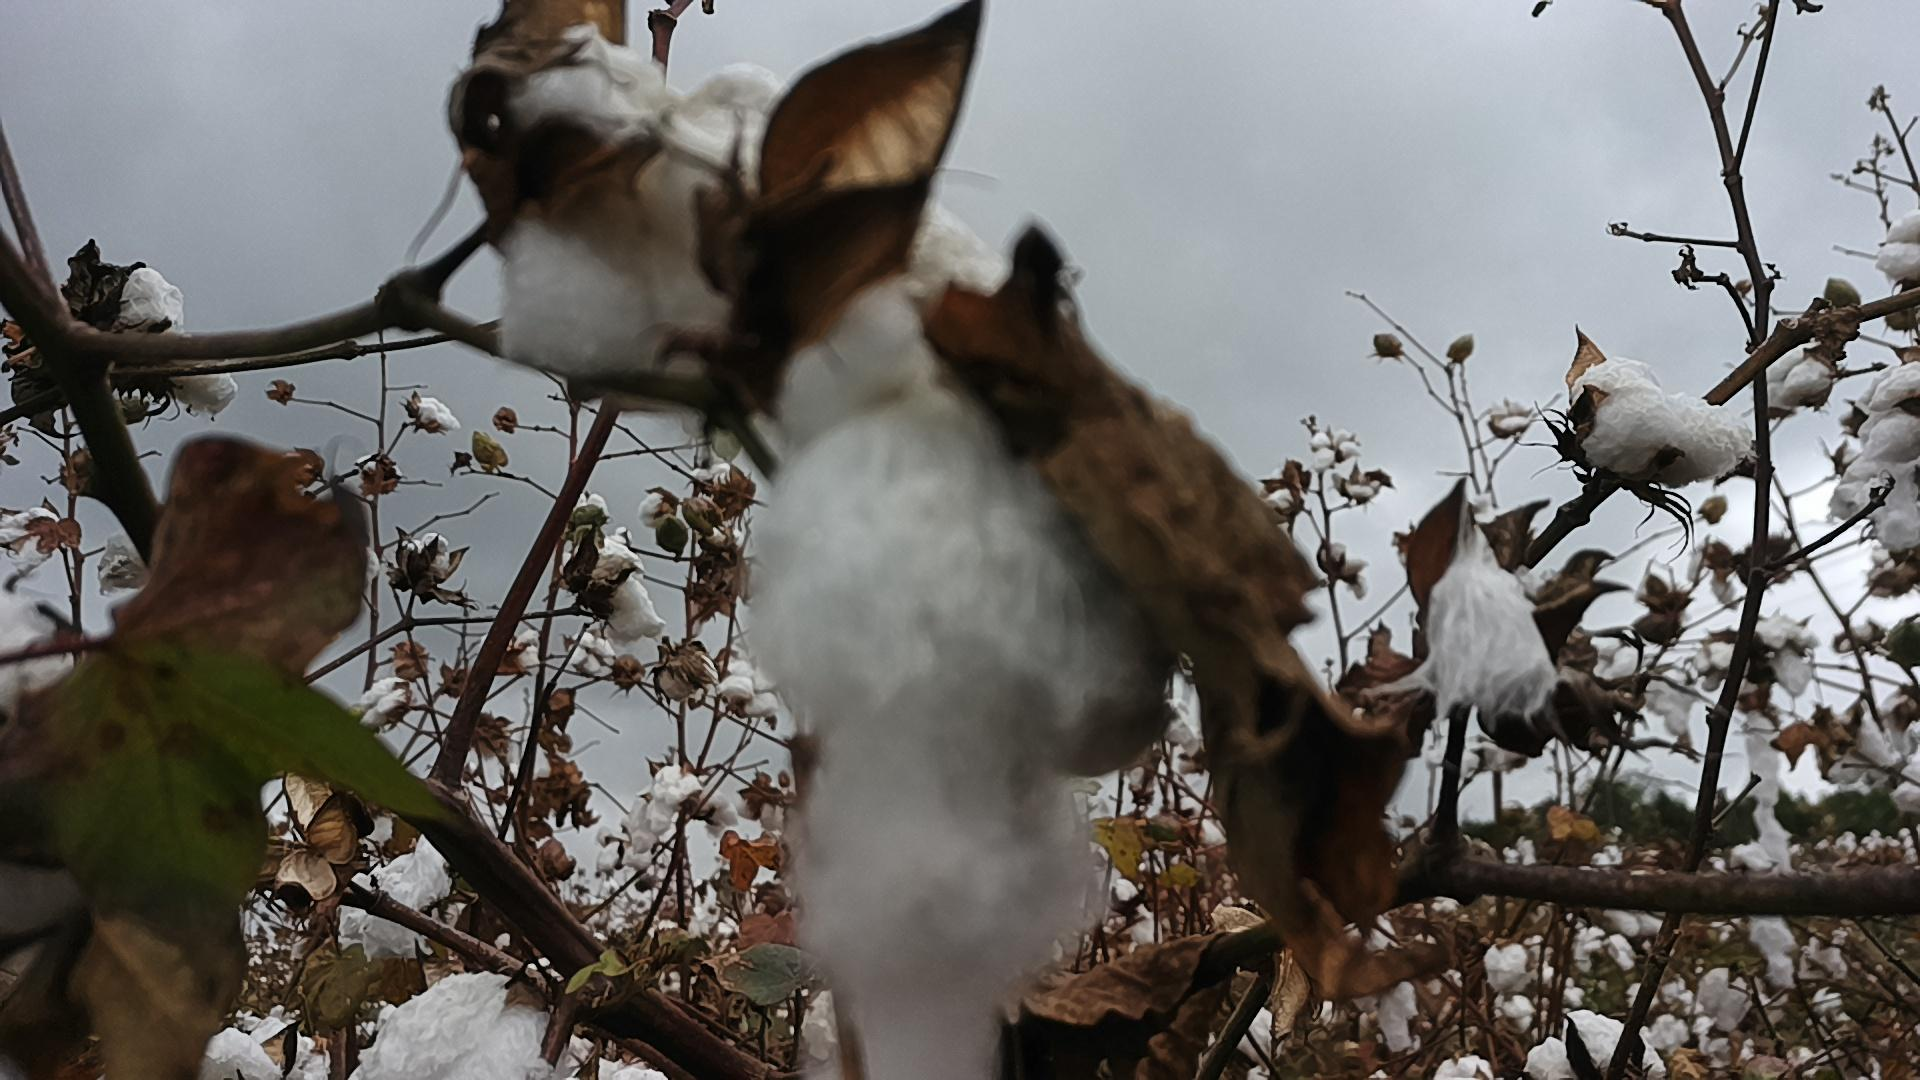cotton_ready: (741, 276, 1192, 1080), (501, 25, 1007, 369), (352, 971, 675, 1080), (1423, 498, 1557, 713), (1569, 357, 1755, 483), (113, 265, 240, 421), (1523, 1006, 1671, 1080), (582, 535, 666, 644), (208, 1010, 330, 1080), (1858, 359, 1920, 473), (1767, 345, 1836, 415)
